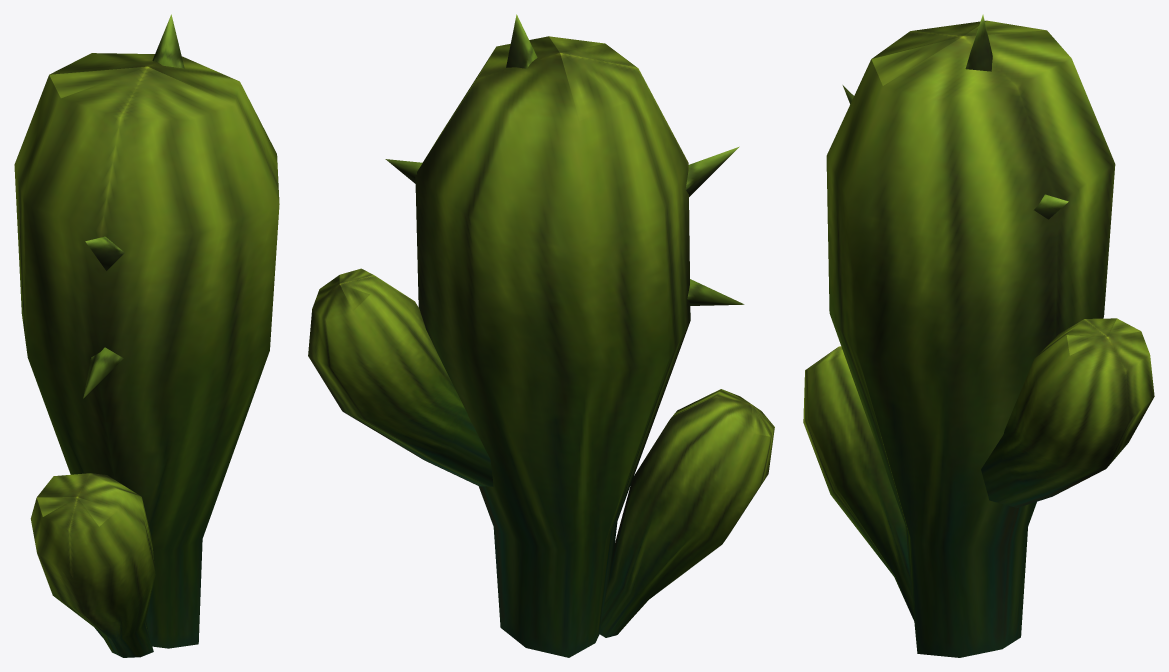
File: xianrenzhang03.FBX
3 views of the same model, side by side, from view 1: azimuth 30°, elevation 25°; view 2: azimuth 150°, elevation 25°; view 3: azimuth 270°, elevation 25° (orthographic). The views are drawn at different scales.
Parts seen in each view (by area): view 1: xianrenzhang03; view 2: xianrenzhang03; view 3: xianrenzhang03.
Part boxes in pixels (<box>): xianrenzhang03: <box>14,14,279,657</box>; xianrenzhang03: <box>308,14,774,657</box>; xianrenzhang03: <box>803,14,1154,657</box>.
Size of the model in its own units: 45.23 by 77.85 by 38.61.
